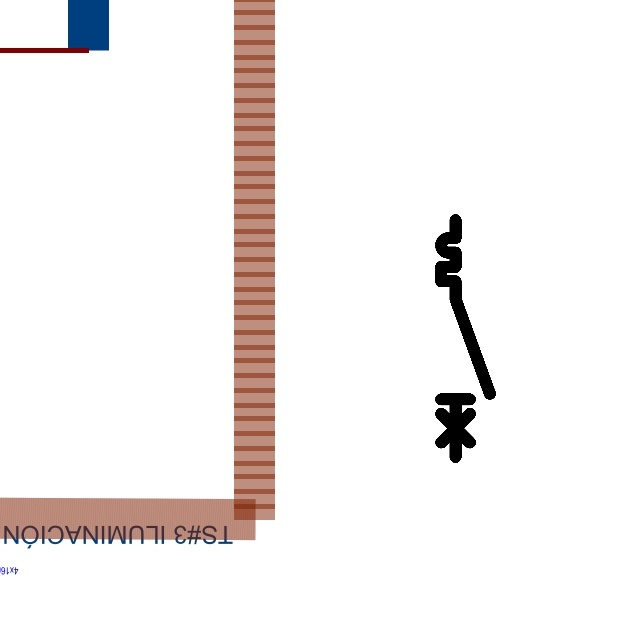interruptor_termomagnetico: (435, 214, 496, 463)
